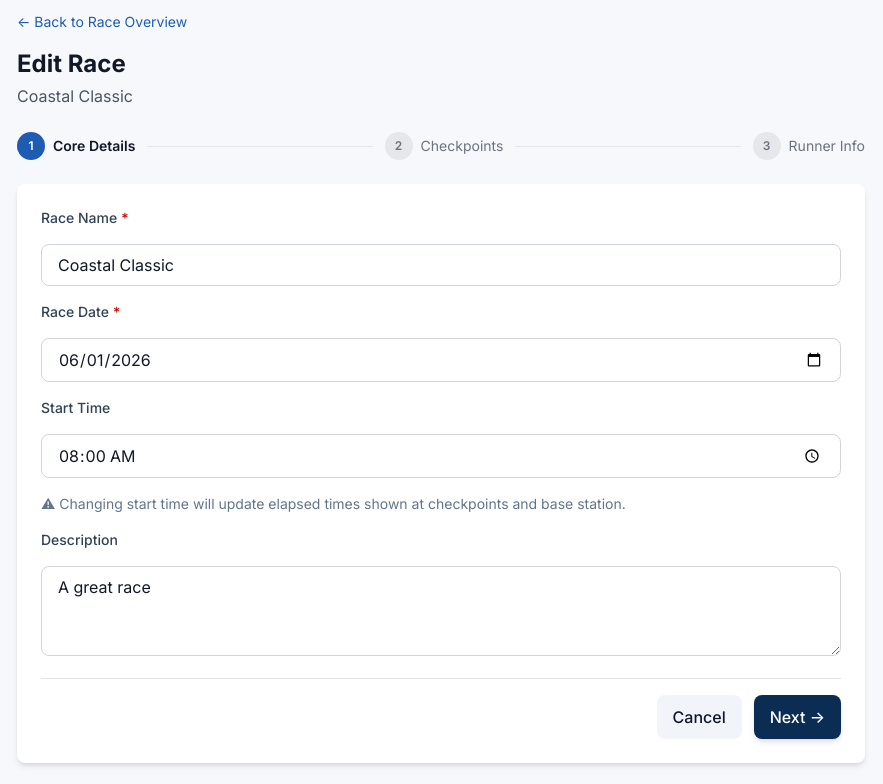
RaceEditView › shows informational banner on Checkpoints step when runner data exists
Check: the field showing "Coastal Classic" is shown, box [41,244,841,286]
Click the button "Next →". click: (797, 717)
box: [754,695,841,739]
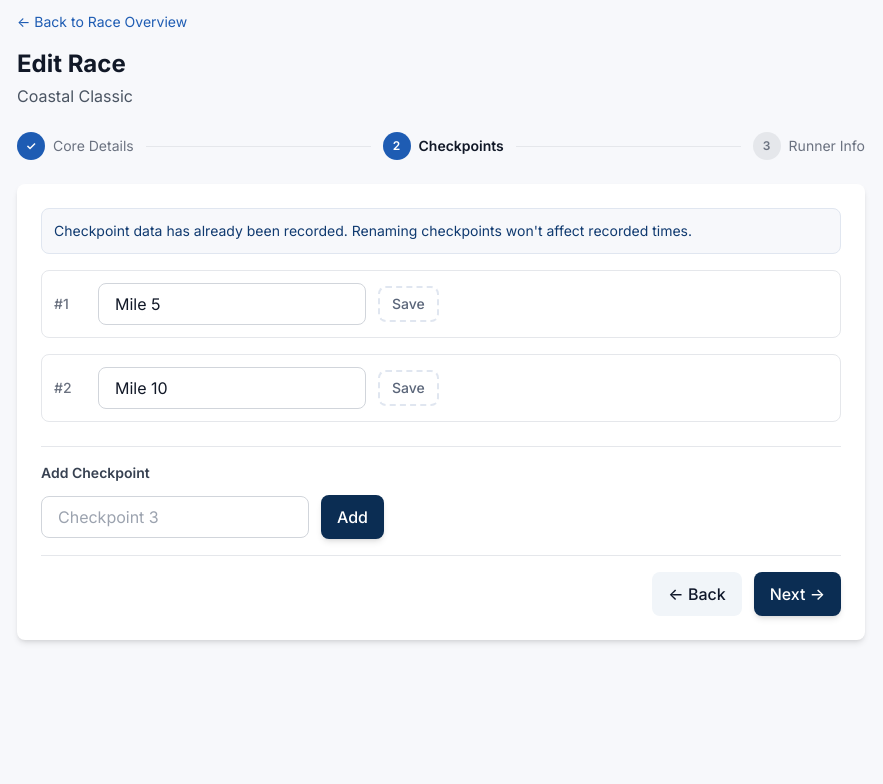
Check: the field named "new checkpoint name" is shown, box [41,496,309,538]
